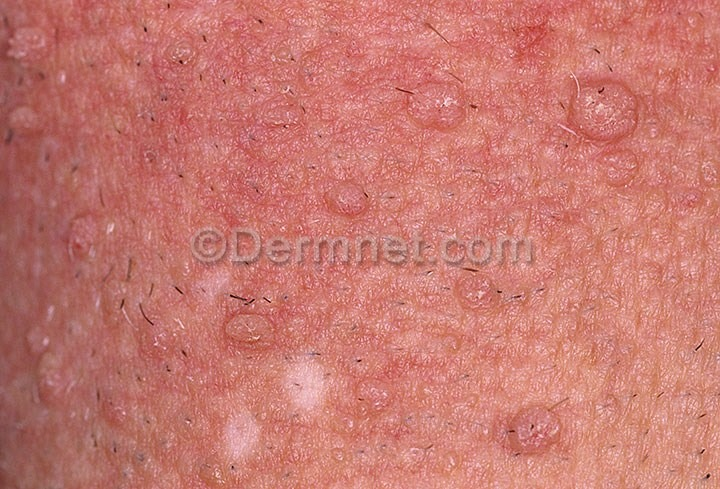Warts: (564, 69, 655, 187), (492, 391, 574, 465), (399, 70, 481, 136), (305, 171, 381, 224)
